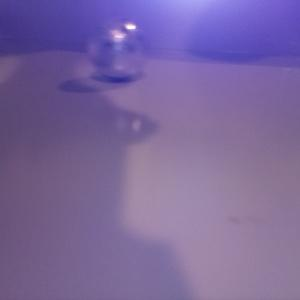alive_ball: (85, 25, 144, 79), (105, 19, 143, 58)
